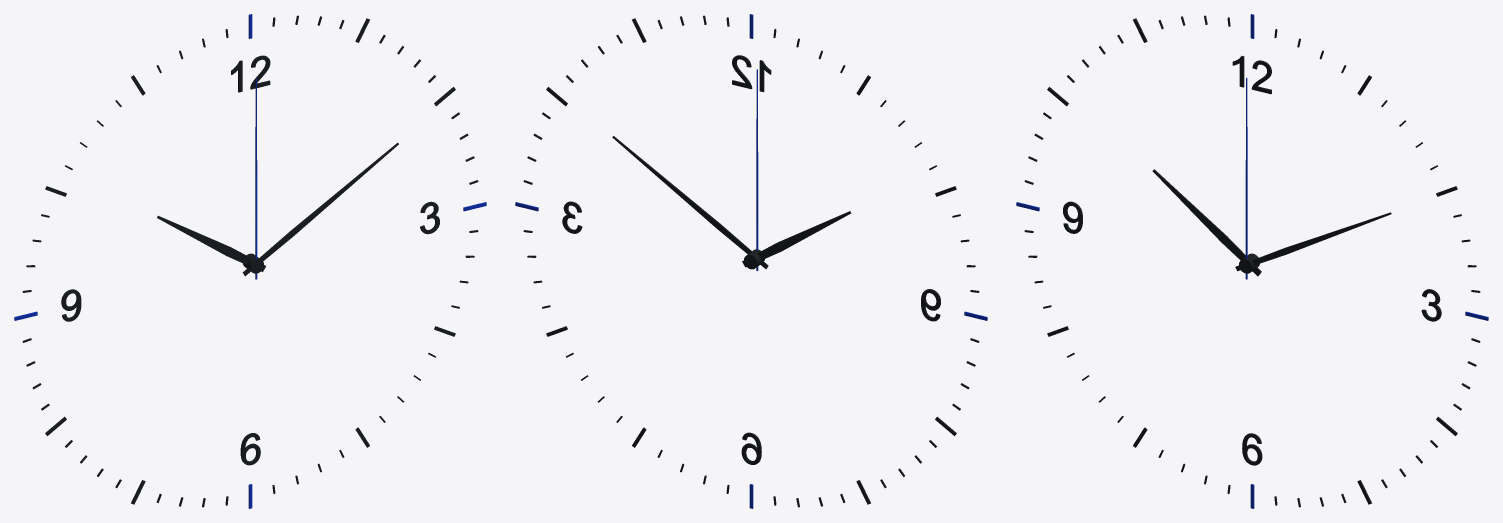
Rendered from wallClock-2.glb.
3 renders of one model, left to right at view 1: azimuth 30°, elevation 25°; view 2: azimuth 150°, elevation 25°; view 3: azimuth 330°, elevation 25°, orthographic.
Parts seen in each view (by area): view 1: Clock_graphite, Clock_minute_hand_blade, Clock_hour_hand_blade; view 2: Clock_graphite, Clock_minute_hand_blade, Clock_hour_hand_blade; view 3: Clock_graphite, Clock_hour_hand_blade, Clock_minute_hand_blade.
Boxes of the visible parts, left/top/right/bottom form: Clock_graphite: left=22, top=15, right=478, bottom=507; Clock_minute_hand_blade: left=242, top=142, right=398, bottom=276; Clock_hour_hand_blade: left=157, top=215, right=265, bottom=271; Clock_graphite: left=523, top=15, right=979, bottom=507; Clock_minute_hand_blade: left=612, top=136, right=768, bottom=268; Clock_hour_hand_blade: left=742, top=211, right=851, bottom=267; Clock_graphite: left=1024, top=15, right=1480, bottom=507; Clock_hour_hand_blade: left=1152, top=169, right=1261, bottom=276; Clock_minute_hand_blade: left=1235, top=212, right=1391, bottom=271.
Bounding box in the file's own units: 1.25 × 1.25 × 0.035.
